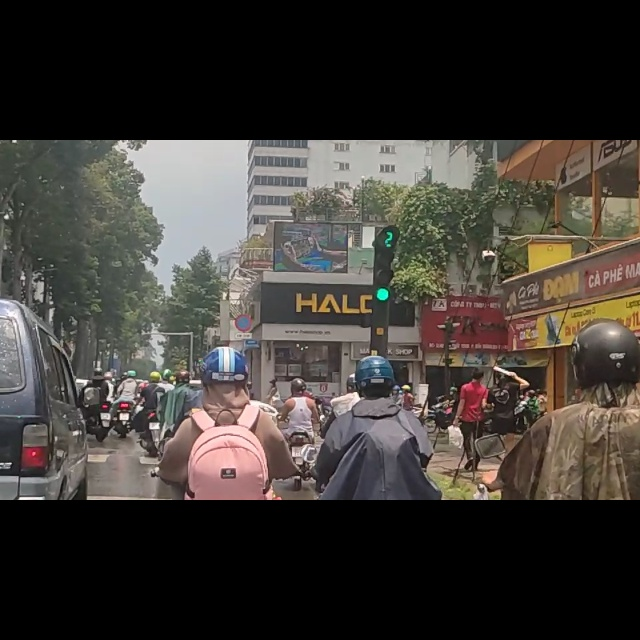bien_cam: (234, 308, 252, 342)
